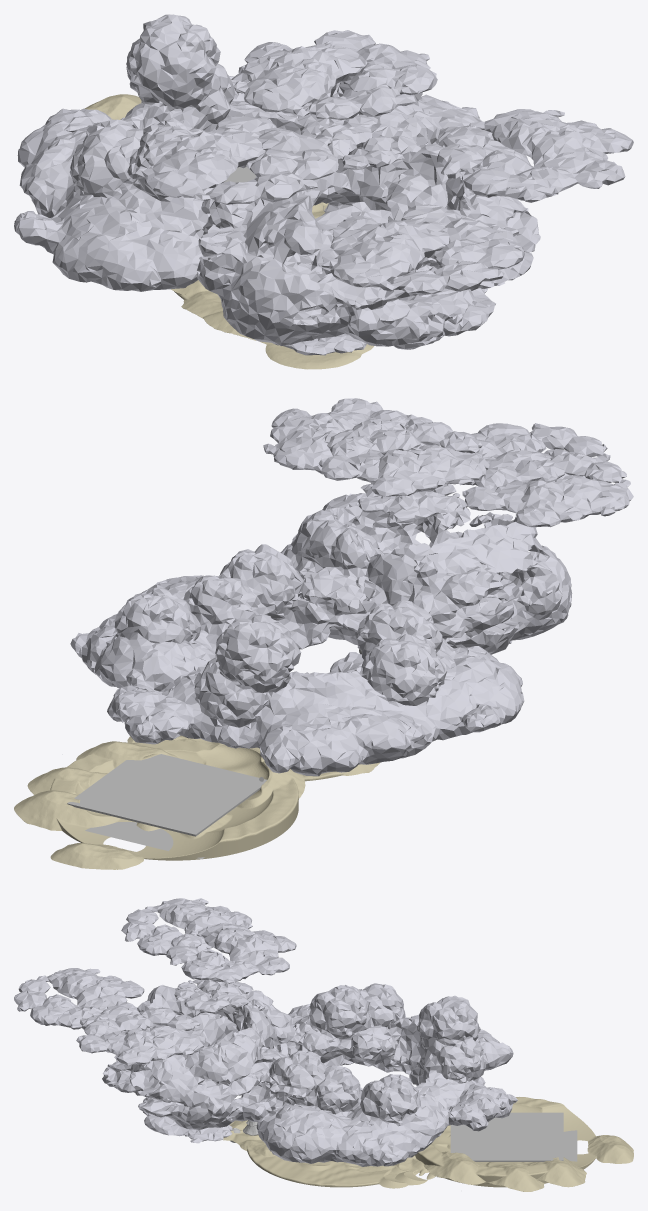
The model's file is BstBaked.glb.
The picture shows the model from 3 angles, top to bottom: view 1: azimuth 30°, elevation 25°; view 2: azimuth 150°, elevation 25°; view 3: azimuth 270°, elevation 25°; orthographic projection. The views are drawn at different scales.
Parts seen in each view (by area): view 1: BstBaked_cloud, BstBaked_terrain; view 2: BstBaked_cloud, BstBaked_terrain, BstBaked_Cube, BstBaked_Plane; view 3: BstBaked_cloud, BstBaked_terrain, BstBaked_Cube, BstBaked_Plane.
Boxes of the visible parts, x1=… form: BstBaked_cloud: x1=14, y1=14, x2=633, y2=355; BstBaked_terrain: x1=84, y1=94, x2=373, y2=369; BstBaked_cloud: x1=70, y1=398, x2=633, y2=776; BstBaked_terrain: x1=14, y1=735, x2=380, y2=869; BstBaked_Cube: x1=67, y1=754, x2=266, y2=836; BstBaked_Plane: x1=85, y1=822, x2=204, y2=859; BstBaked_cloud: x1=14, y1=898, x2=517, y2=1166; BstBaked_terrain: x1=223, y1=1097, x2=633, y2=1191; BstBaked_Cube: x1=450, y1=1112, x2=563, y2=1161; BstBaked_Plane: x1=437, y1=1130, x2=577, y2=1177.
Bounding box in the file's own units: 1304 × 767 × 2194.
